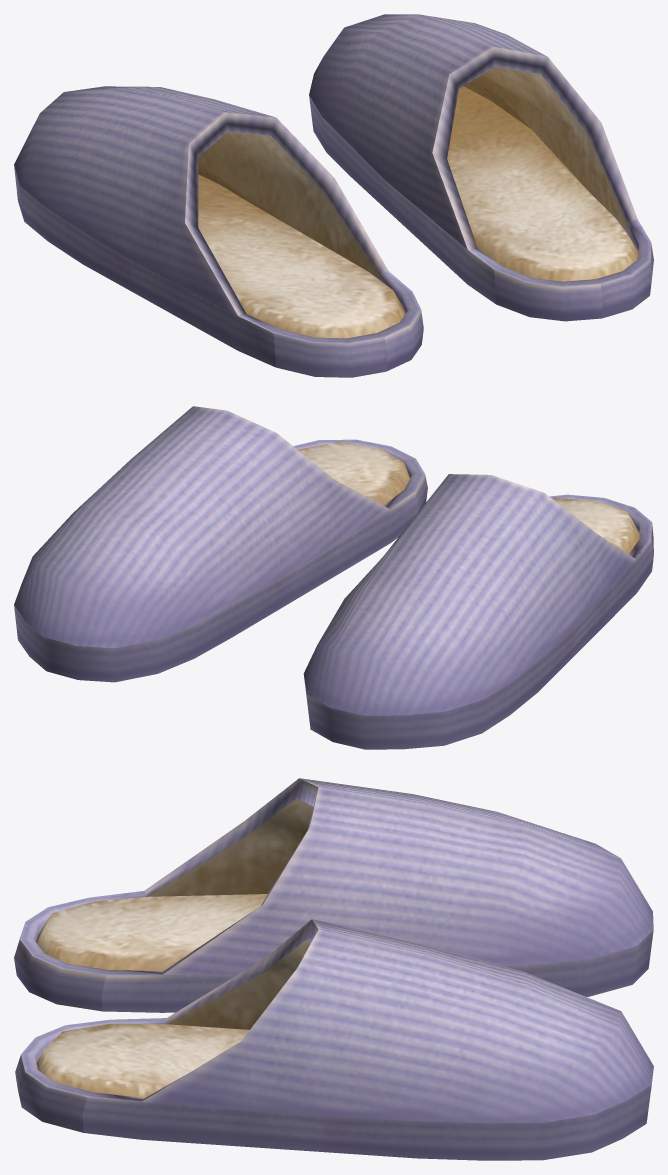
The model's file is SiZheBingFang_01_TuoXie_02_uv2.FBX.
3 views of the same model, one above another, from view 1: azimuth 30°, elevation 25°; view 2: azimuth 150°, elevation 25°; view 3: azimuth 270°, elevation 25° (orthographic). The views are drawn at different scales.
Visible parts, largest first — view 1: pCube12; view 2: pCube12; view 3: pCube12.
Part boxes in pixels (bbox=[...]): pCube12: bbox=[14, 14, 653, 377]; pCube12: bbox=[14, 406, 653, 749]; pCube12: bbox=[14, 778, 653, 1160].
Size of the model in its own units: 227 by 73.86 by 242.
